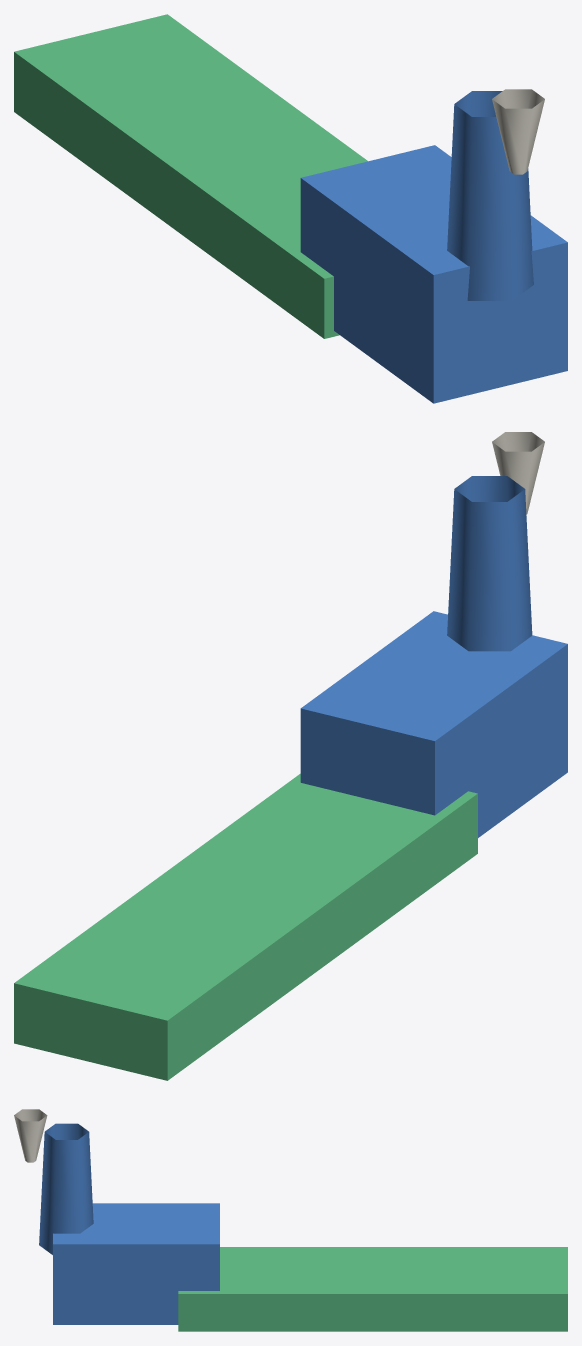
Rendered from peafowl.glb.
The picture shows the model from 3 angles, top to bottom: view 1: azimuth 30°, elevation 25°; view 2: azimuth 150°, elevation 25°; view 3: azimuth 270°, elevation 25°; orthographic projection. The views are drawn at different scales.
Visible parts, largest first — view 1: SweepingTrain_Node, Body_Node, Neck_Node, HeadBeak_Node; view 2: SweepingTrain_Node, Body_Node, Neck_Node, HeadBeak_Node; view 3: SweepingTrain_Node, Body_Node, Neck_Node, HeadBeak_Node.
Boxes of the visible parts, x1,y1,x2,y2 form: SweepingTrain_Node: (14,14,367,338); Body_Node: (300,145,567,403); Neck_Node: (447,91,533,300); HeadBeak_Node: (492,89,544,174); SweepingTrain_Node: (14,773,477,1080); Body_Node: (300,611,567,837); Neck_Node: (447,476,532,651); HeadBeak_Node: (492,432,544,514); SweepingTrain_Node: (178,1247,567,1331); Body_Node: (53,1203,219,1324); Neck_Node: (39,1123,93,1254); HeadBeak_Node: (14,1109,47,1162).
Size of the model in its own units: 0.4 by 0.765 by 1.99.
